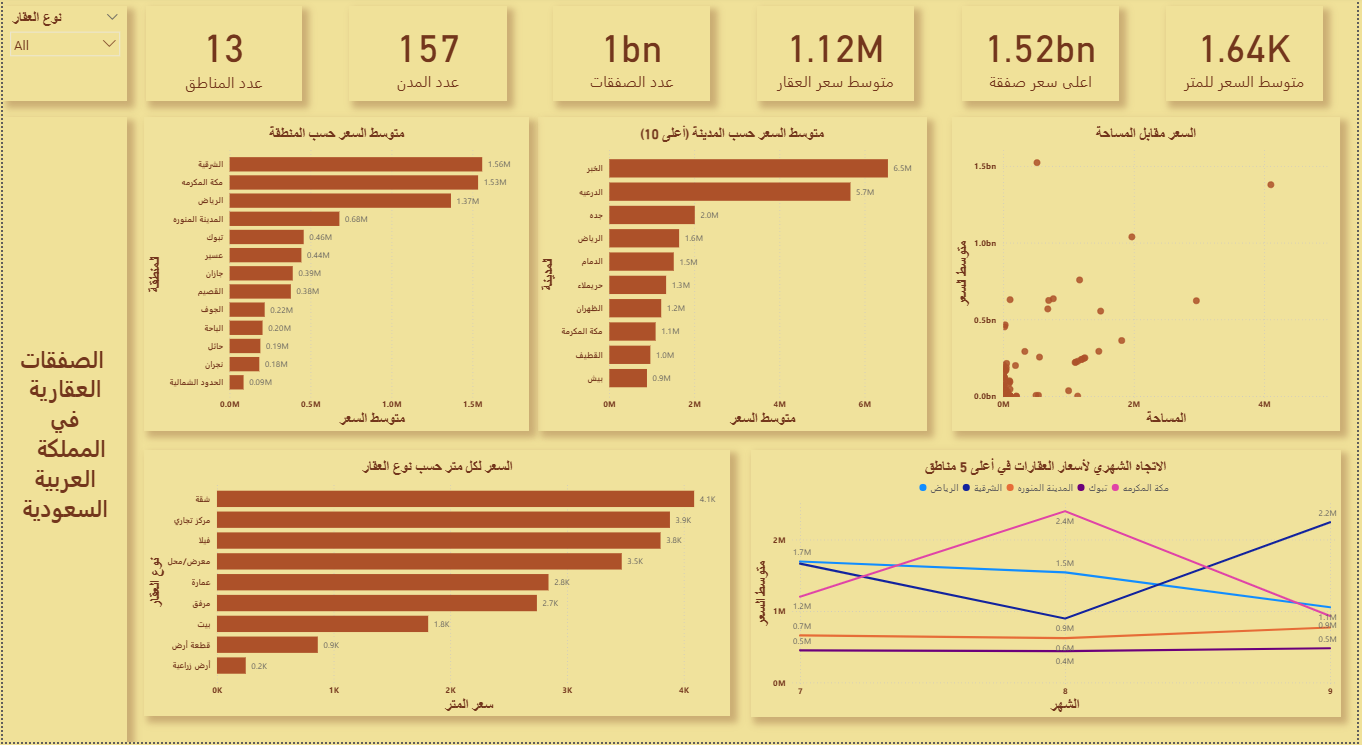

The page's visual inventory and layout, read from the dashboard file:
{"tool":"powerbi","page":{"name":"Page 1","canvas":[1927,1061],"ordinal":0},"visuals":[{"type":"card","fields":{"Values":["Sum(00-0411-1-2_الصفقات العقارية.Index.1)"]},"box":[782.5,14.2,224,135.1],"z":0},{"type":"card","fields":{"Values":["Avg(00-0411-1-2_الصفقات العقارية.السعر)"]},"box":[1072.8,14.2,224,135.1],"z":1000},{"type":"card","fields":{"Values":["Max(00-0411-1-2_الصفقات العقارية.السعر)"]},"box":[1363.1,14.2,224,135.1],"z":2000},{"type":"card","fields":{"Values":["Avg(00-0411-1-2_الصفقات العقارية.price_per_sqm)"]},"box":[1653.4,14.2,224,135.1],"z":3000},{"type":"card","fields":{"Values":["Count(00-0411-1-2_الصفقات العقارية.المدينة)"]},"box":[492.3,14.2,224,135.1],"z":4000},{"type":"card","fields":{"Values":["Count(00-0411-1-2_الصفقات العقارية.المنطقة)"]},"box":[203.2,14.3,222.8,135.5],"z":5000},{"type":"textbox","box":[0,172.9,176.5,887.6],"z":6000},{"type":"barChart","title":"متوسط السعر حسب المنطقة","fields":{"Y":["Avg(00-0411-1-2_الصفقات العقارية.السعر)"],"Category":["00-0411-1-2_الصفقات العقارية.المنطقة"]},"box":[200.6,173.1,547.2,445.6],"z":7000},{"type":"lineChart","title":"الاتجاه الشهري لأسعار العقارات في أعلى 5 مناطق","fields":{"Category":["00-0411-1-2_الصفقات العقارية.Month"],"Y":["00-0411-1-2_الصفقات العقارية.Average Price"],"Series":["00-0411-1-2_الصفقات العقارية.المنطقة"]},"box":[1063.2,645.4,839.5,379.6],"z":8000},{"type":"barChart","title":"متوسط السعر حسب المدينة (أعلى 10)","fields":{"Category":["00-0411-1-2_الصفقات العقارية.المدينة"],"Y":["Avg(00-0411-1-2_الصفقات العقارية.السعر)"]},"box":[761.1,172.9,552.5,445.6],"z":8003},{"type":"scatterChart","title":"السعر مقابل المساحة","fields":{"Y":["00-0411-1-2_الصفقات العقارية.السعر"],"X":["00-0411-1-2_الصفقات العقارية.المساحة"]},"box":[1350.2,173.1,552.5,445.6],"z":8005},{"type":"slicer","fields":{"Values":["00-0411-1-2_الصفقات العقارية.نوع العقار"]},"box":[0,14.3,176.5,135.5],"z":8006},{"type":"barChart","title":"السعر لكل متر حسب نوع العقار","fields":{"Y":["00-0411-1-2_الصفقات العقارية.سعر المتر"],"Category":["00-0411-1-2_الصفقات العقارية.نوع العقار"]},"box":[200.9,645.4,833.8,378.7],"z":8007}]}

Visuals, with their boxes in screenshot pixels (x1, y1, x2, y2), scaled from the page's 1927x1061 canvas onto the 1362x745 screenshot:
card - Sum(00-0411-1-2_الصفقات العقارية.Index.1): (x1=553, y1=10, x2=711, y2=105)
card - Avg(00-0411-1-2_الصفقات العقارية.السعر): (x1=758, y1=10, x2=917, y2=105)
card - Max(00-0411-1-2_الصفقات العقارية.السعر): (x1=963, y1=10, x2=1122, y2=105)
card - Avg(00-0411-1-2_الصفقات العقارية.price_per_sqm): (x1=1169, y1=10, x2=1327, y2=105)
card - Count(00-0411-1-2_الصفقات العقارية.المدينة): (x1=348, y1=10, x2=506, y2=105)
card - Count(00-0411-1-2_الصفقات العقارية.المنطقة): (x1=144, y1=10, x2=301, y2=105)
textbox: (x1=0, y1=121, x2=125, y2=744)
"متوسط السعر حسب المنطقة" barChart: (x1=142, y1=122, x2=529, y2=434)
"الاتجاه الشهري لأسعار العقارات في أعلى 5 مناطق" lineChart: (x1=751, y1=453, x2=1345, y2=720)
"متوسط السعر حسب المدينة (أعلى 10)" barChart: (x1=538, y1=121, x2=928, y2=434)
"السعر مقابل المساحة" scatterChart: (x1=954, y1=122, x2=1345, y2=434)
slicer - 00-0411-1-2_الصفقات العقارية.نوع العقار: (x1=0, y1=10, x2=125, y2=105)
"السعر لكل متر حسب نوع العقار" barChart: (x1=142, y1=453, x2=731, y2=719)
